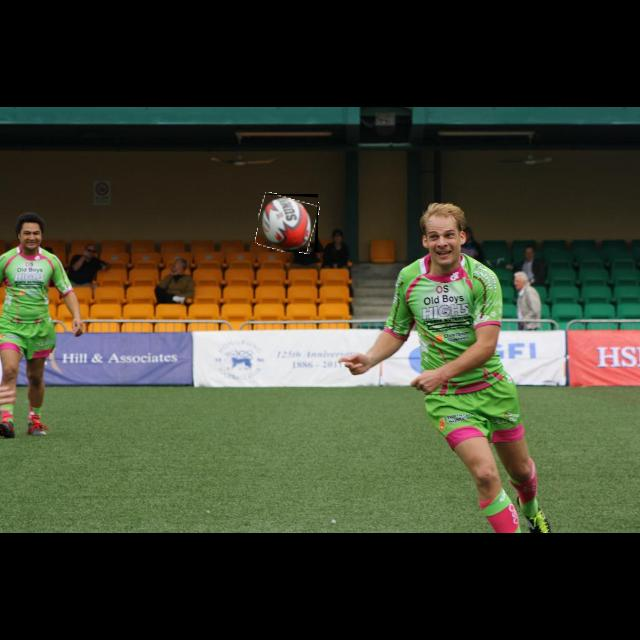Football: (258, 194, 318, 252)
